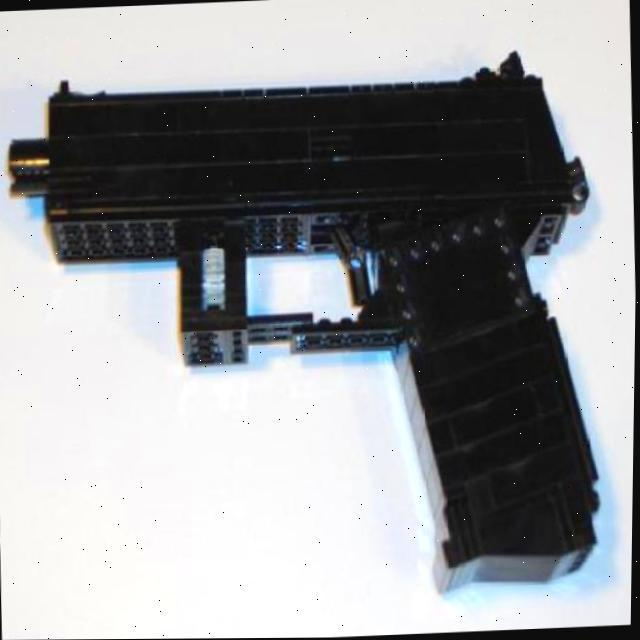gun: (0, 45, 610, 613)
